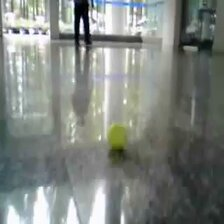tennis: (108, 124, 127, 150)
